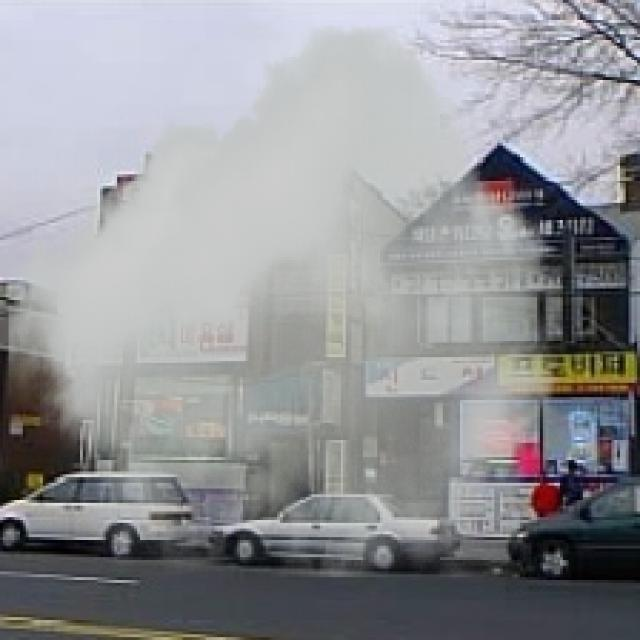smoke: (9, 26, 557, 577)
